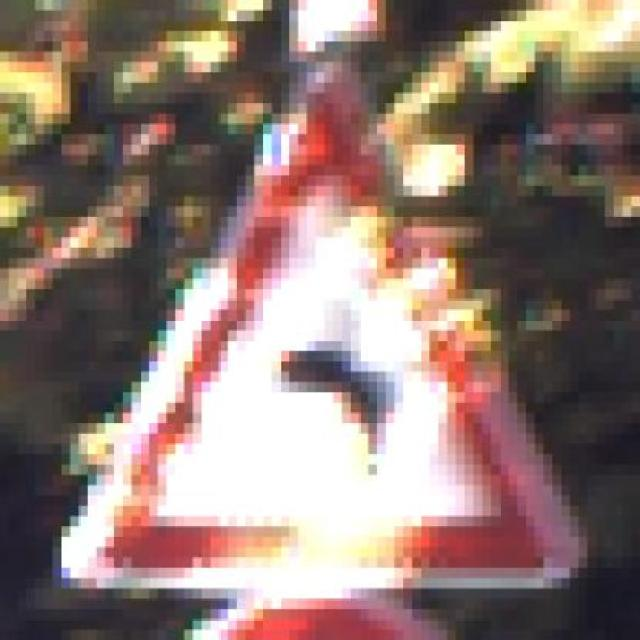Dangerous Left Curve Ahead: (79, 51, 596, 588)
